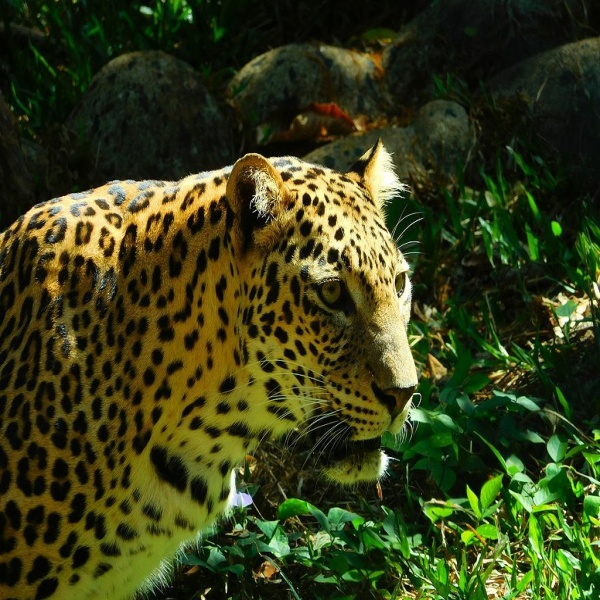Leopard: (1, 139, 422, 600)
